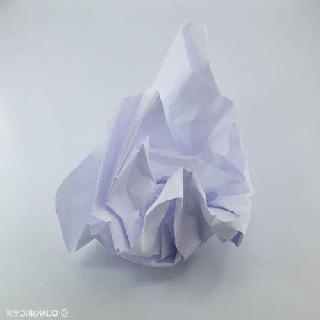8/可回收垃圾/纸: (56, 22, 255, 269)
